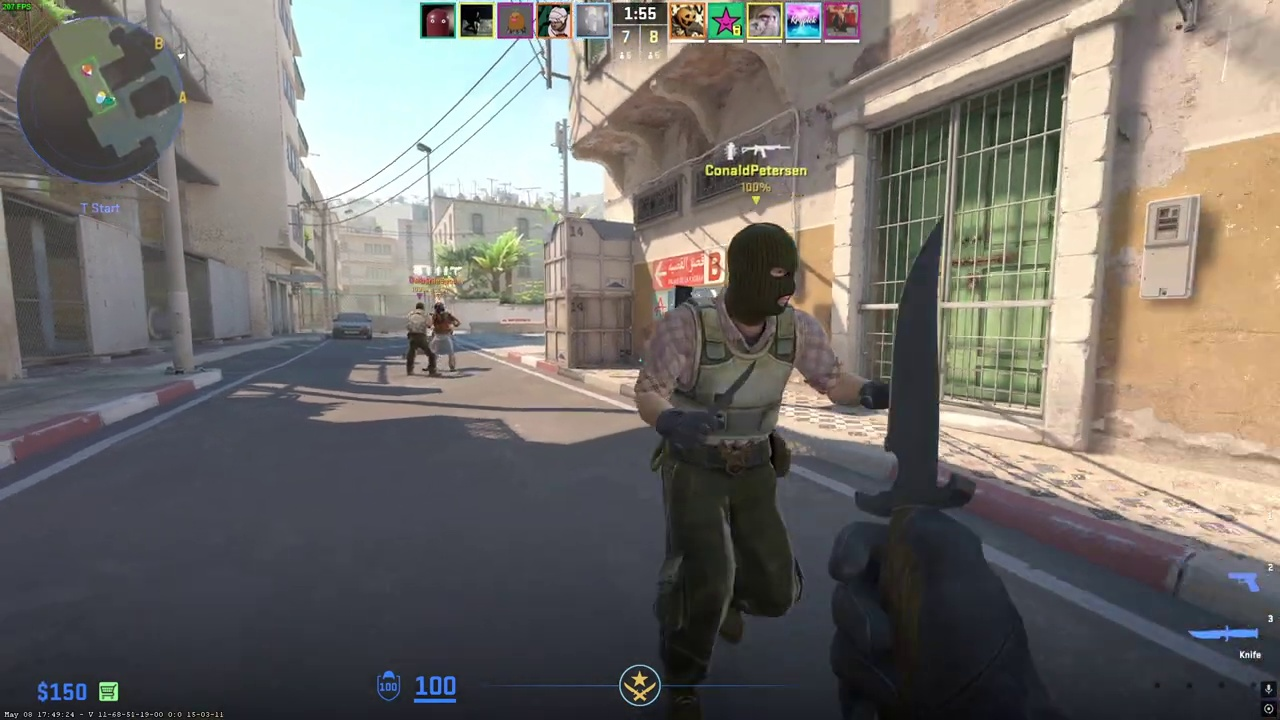Terrorist: (640, 222, 822, 712), (405, 302, 437, 378), (432, 302, 457, 374)
